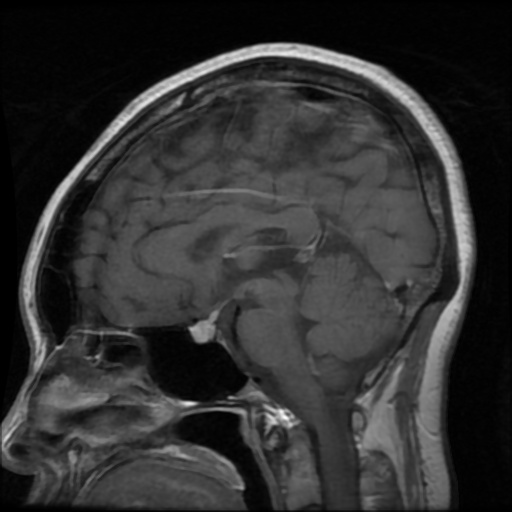pituitary: (188, 318, 215, 341)
